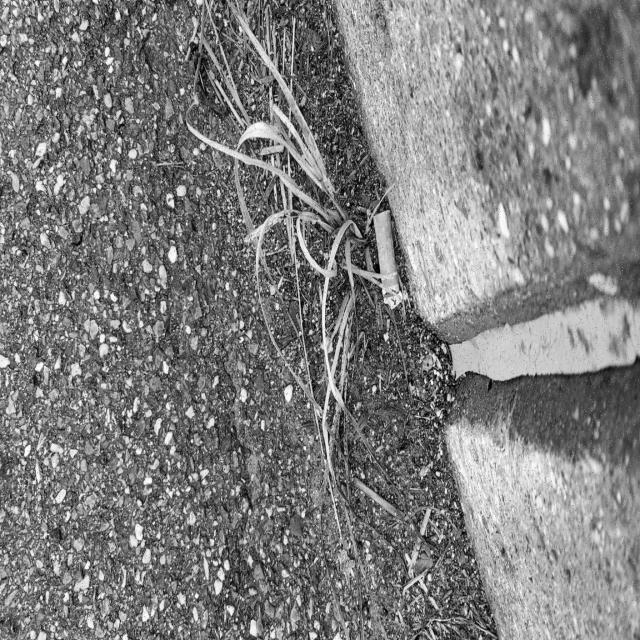other waste: (373, 209, 404, 311)
